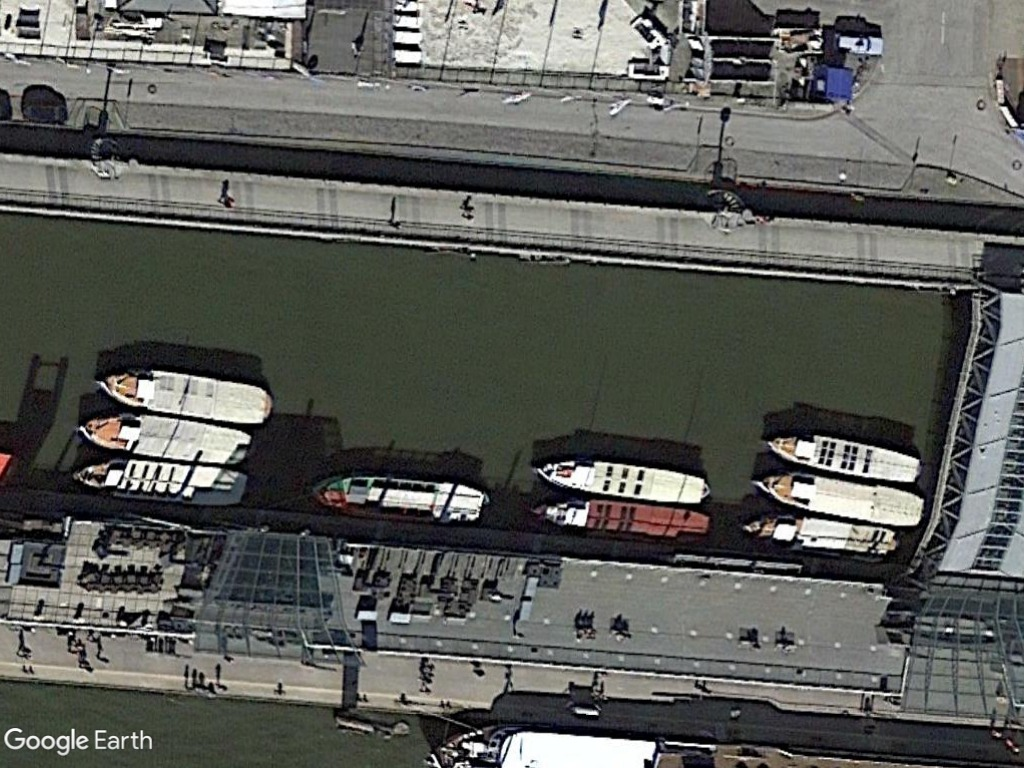boat: (88, 365, 274, 430), (748, 464, 927, 529), (305, 471, 489, 533), (69, 408, 255, 465), (528, 454, 712, 507), (763, 427, 924, 487), (734, 505, 904, 560), (527, 495, 713, 545), (67, 454, 249, 505)
